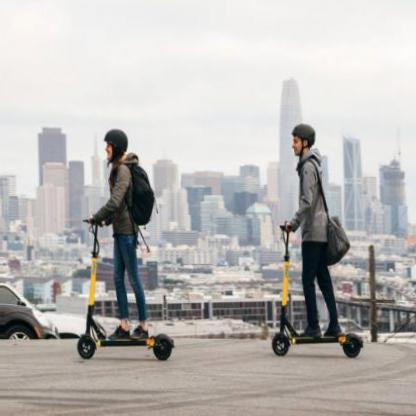scooter: (76, 218, 174, 363), (271, 222, 364, 360)
with helmet: (102, 129, 129, 167), (291, 124, 316, 159)
